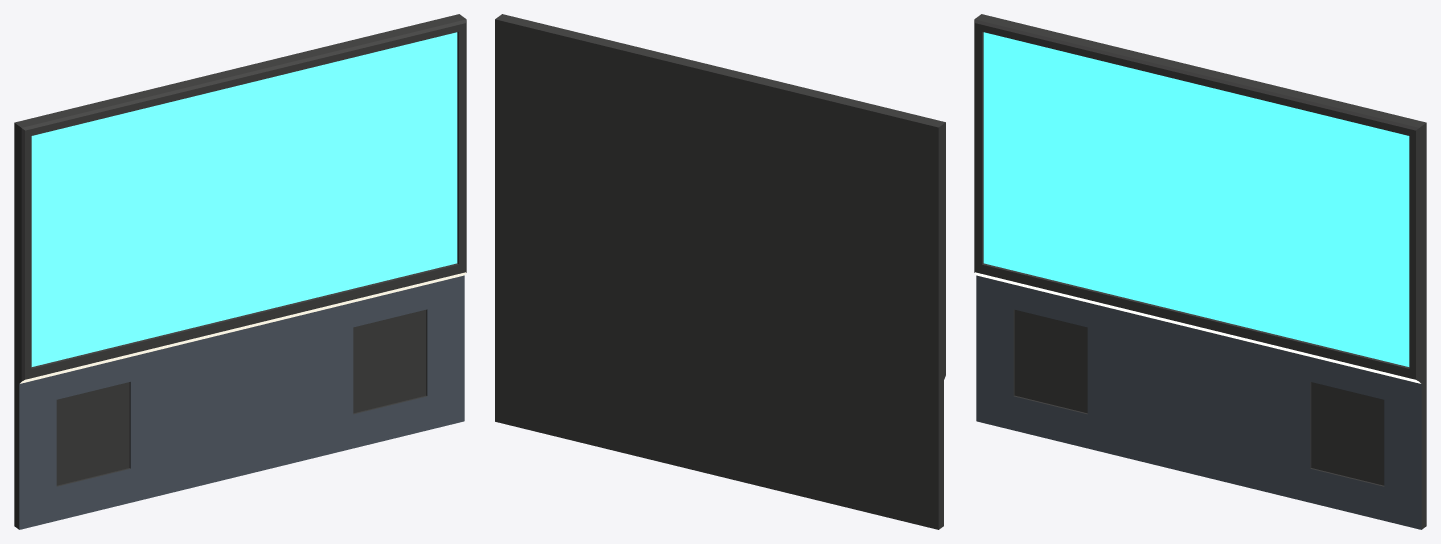
Rendered from wall_screen.glb.
The picture shows the model from 3 angles, left to right: view 1: azimuth 30°, elevation 25°; view 2: azimuth 150°, elevation 25°; view 3: azimuth 330°, elevation 25°; orthographic projection.
Parts seen in each view (by area): view 1: wall_screen; view 2: wall_screen; view 3: wall_screen.
Boxes of the visible parts, <box> form: wall_screen: <box>14,14,466,529</box>; wall_screen: <box>495,14,945,529</box>; wall_screen: <box>974,14,1426,529</box>.
Size of the model in its own units: 3 by 2.6 by 0.1.
